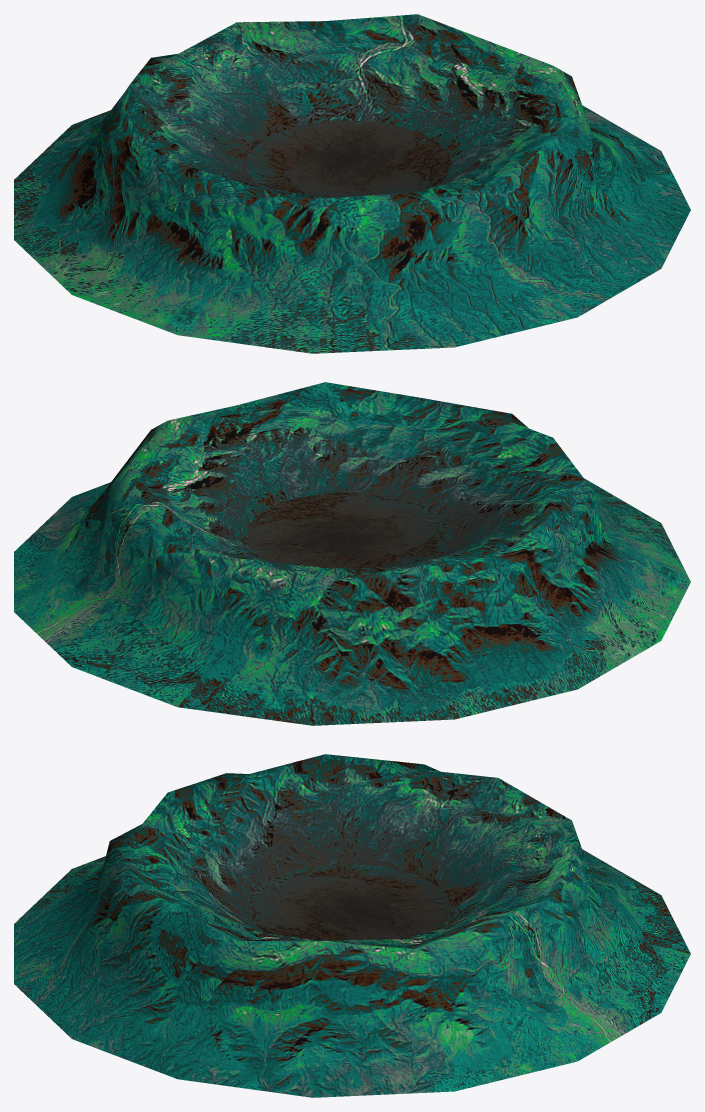
The model's file is crater_1.obj.
3 renders of one model, top to bottom at view 1: azimuth 30°, elevation 25°; view 2: azimuth 150°, elevation 25°; view 3: azimuth 270°, elevation 25°, orthographic.
Parts seen in each view (by area): view 1: crater; view 2: crater; view 3: crater.
Boxes of the visible parts, x1,y1,x2,y2 form: crater: [14, 14, 690, 353]; crater: [14, 382, 690, 725]; crater: [14, 754, 690, 1097].
Bounding box in the file's own units: 3.87 × 0.663 × 3.85.
